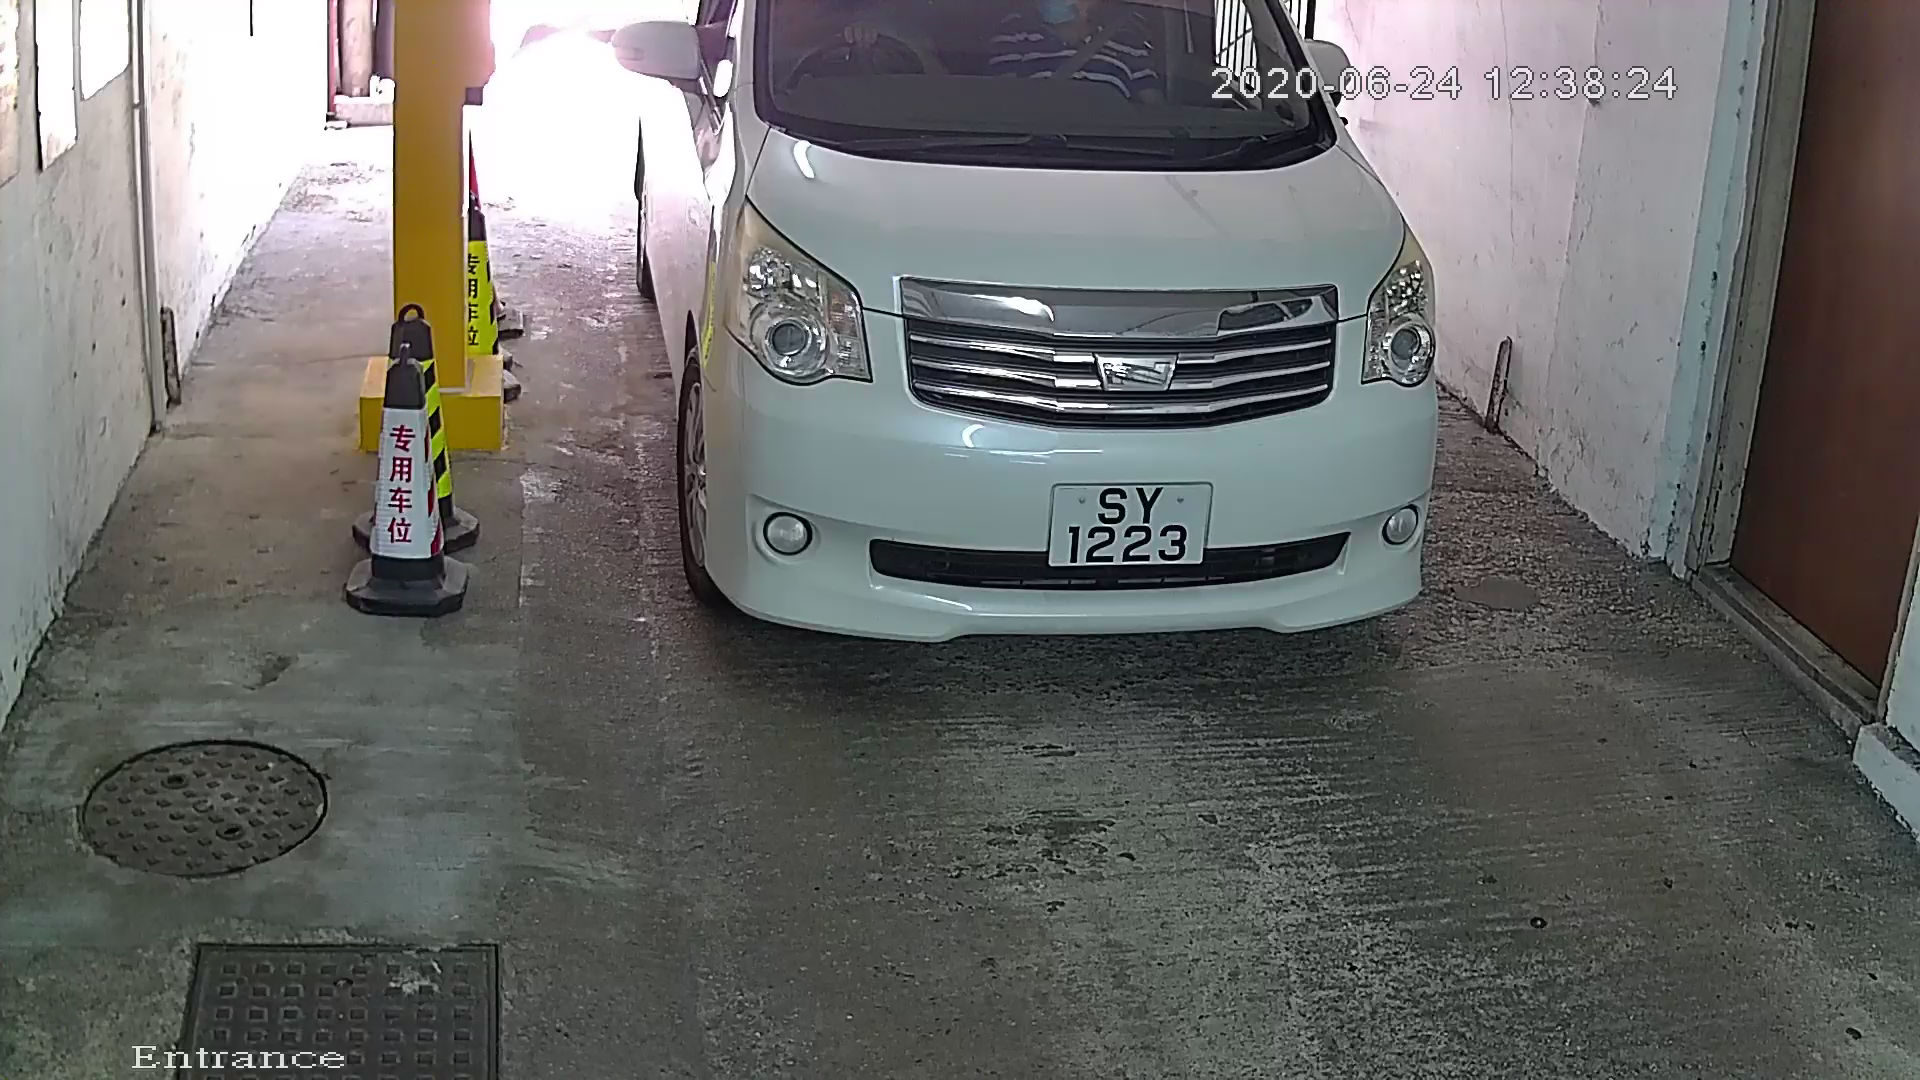Car: (569, 1, 1482, 708)
License Plate: (1043, 476, 1221, 574)
